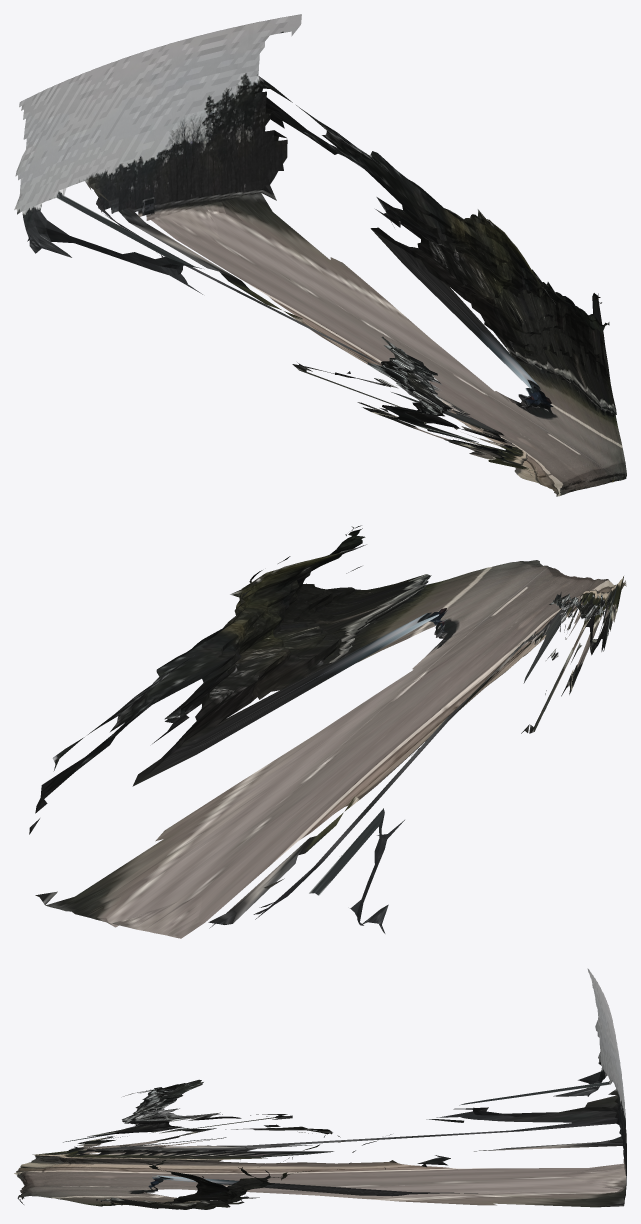
3 renders of one model, top to bottom at view 1: azimuth 30°, elevation 25°; view 2: azimuth 150°, elevation 25°; view 3: azimuth 270°, elevation 25°, orthographic. The views are drawn at different scales.
Parts seen in each view (by area): view 1: defaultobject; view 2: defaultobject; view 3: defaultobject.
Part boxes in pixels (x1,y1,x2,y2): defaultobject: (14,14,626,496); defaultobject: (29,525,626,938); defaultobject: (14,968,626,1209).
Size of the model in its own units: 23.71 by 11.7 by 44.66.
1 material, 1 textured.
